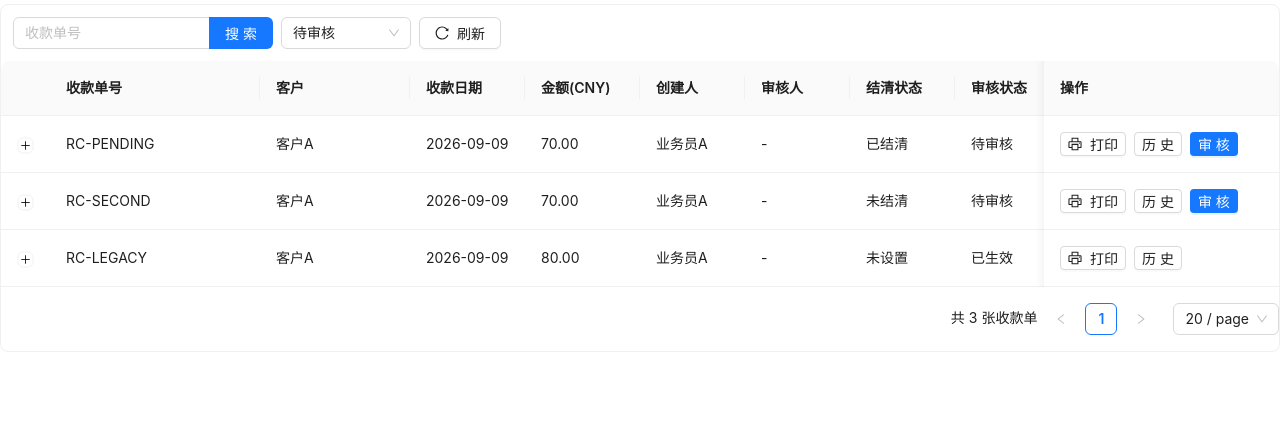
receipt summaries separate settlement and review states and lazily load true item details
Check: the text "RC-PENDING" is shown, box [50,116,260,173]
Check: the column heading "结清状态" is shown, box [850,61,955,116]
Step 1. Click the button named "Expand row" next to "RC-PENDING" → (26, 145), box [18,137,34,153]
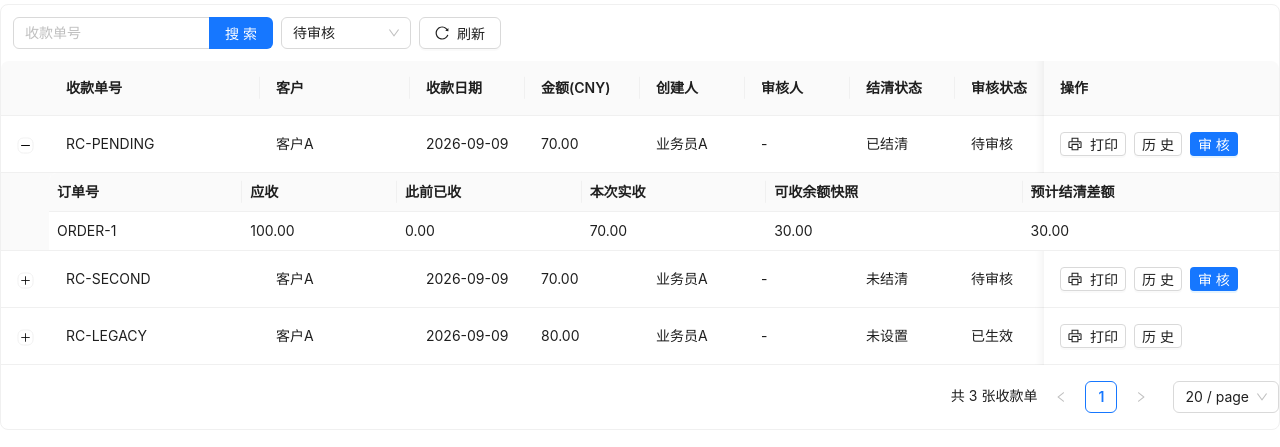
Check: the text "ORDER-1" is shown, box [49,212,242,250]
Check: the column heading "预计结清差额" is shown, box [1023,173,1279,212]
Check: the column heading "可收余额快照" is shown, box [766,173,1023,212]
